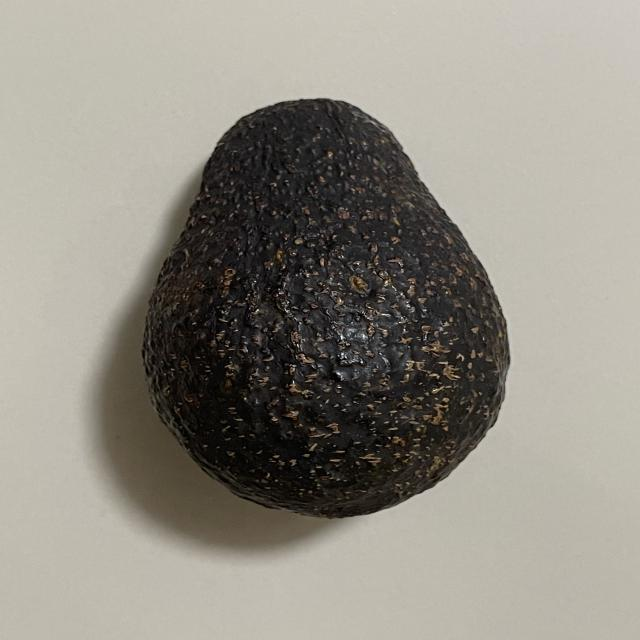Level2: (134, 90, 516, 524)
